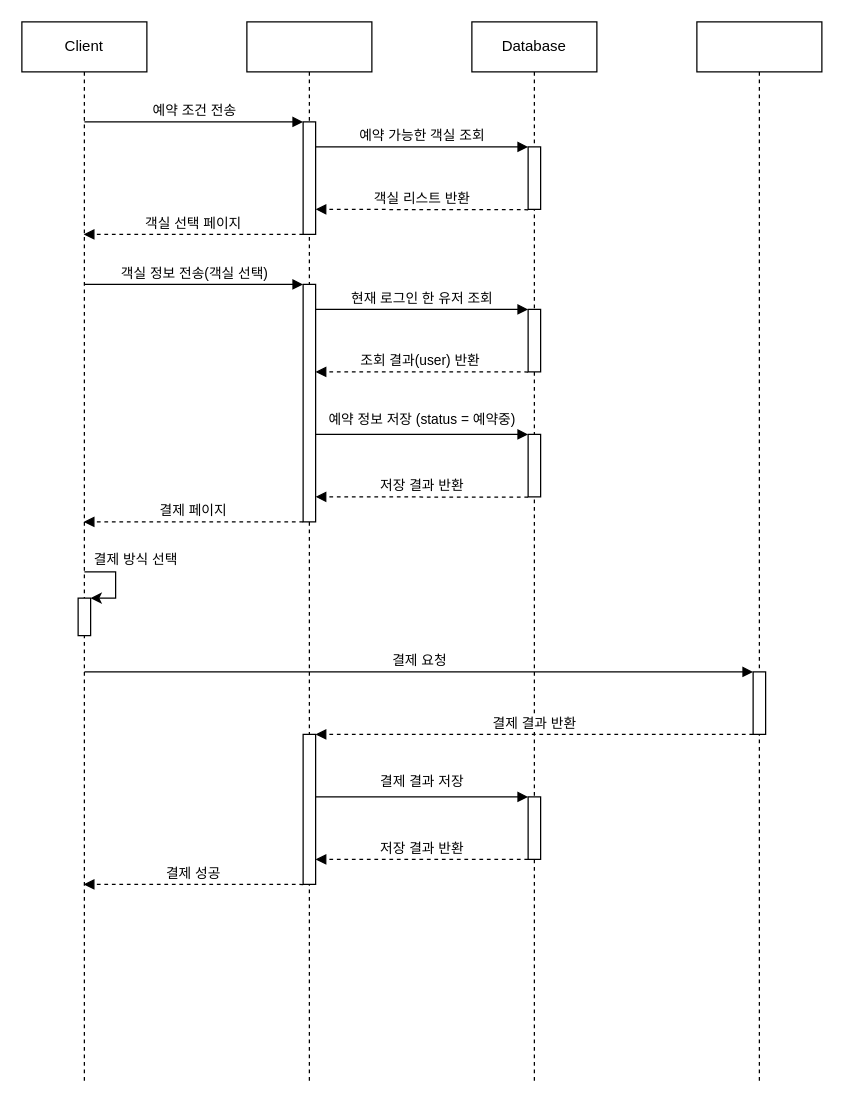
This 844x1106 diagram has some shape labels left out. Each missing label, with the box of its shape:
Server: (246, 21, 372, 1084)
결제 API: (696, 21, 822, 1084)
